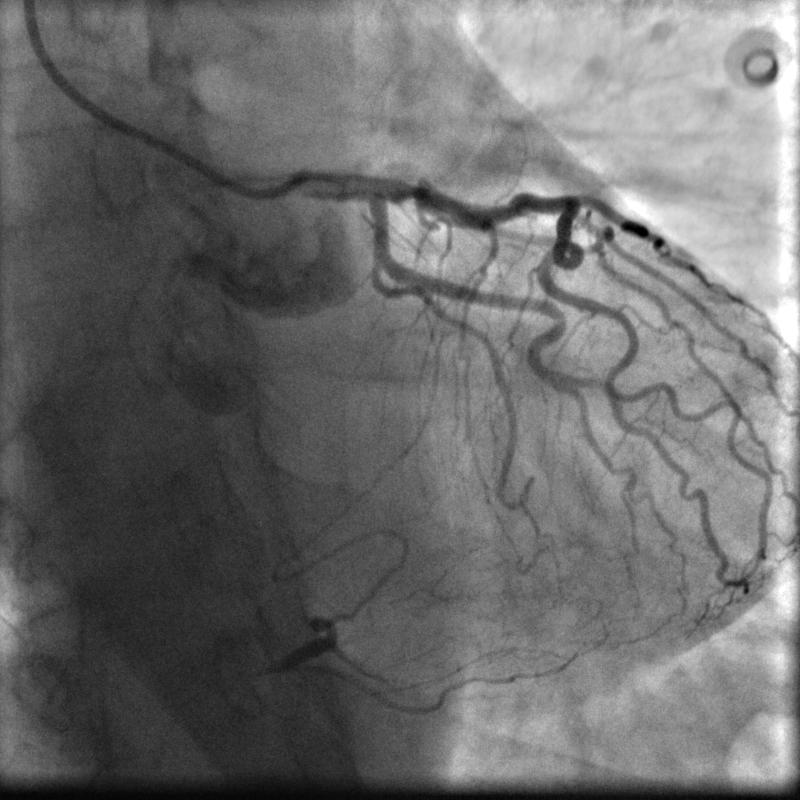Stenosis: (394, 173, 428, 209)
